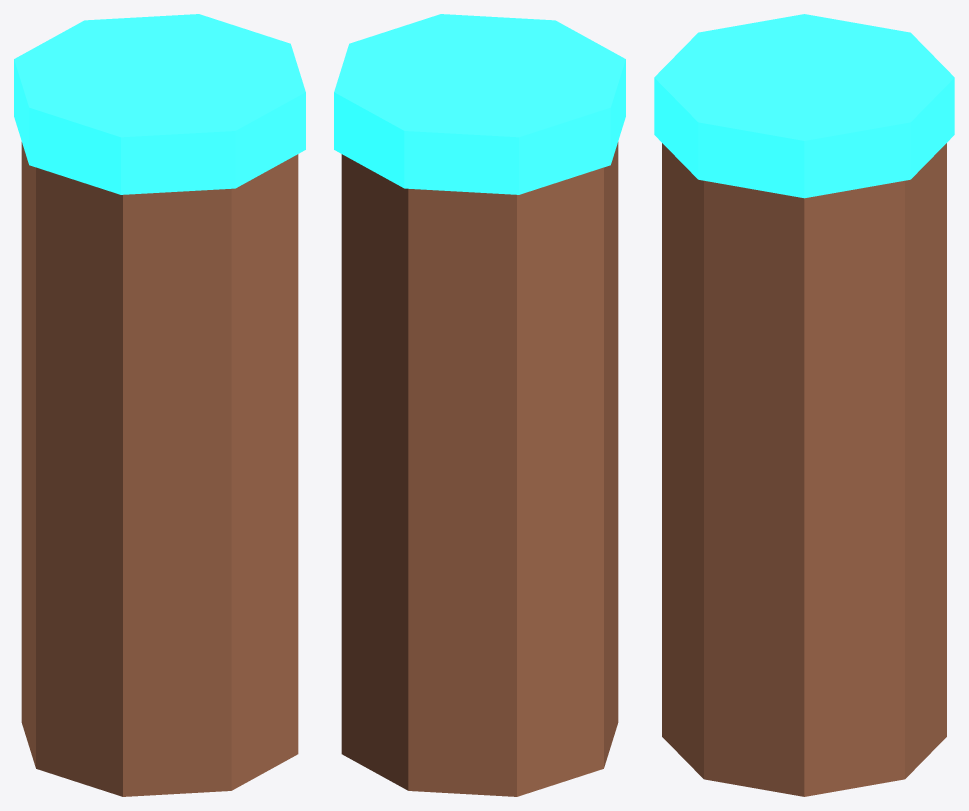
Rendered from street_006_seed11.glb.
3 renders of one model, left to right at view 1: azimuth 30°, elevation 25°; view 2: azimuth 150°, elevation 25°; view 3: azimuth 270°, elevation 25°, orthographic.
Visible parts, largest first — view 1: street_006_seed11; view 2: street_006_seed11; view 3: street_006_seed11.
Part boxes in pixels (x1,y1,x2,y2): street_006_seed11: (14, 14, 305, 796); street_006_seed11: (334, 14, 625, 796); street_006_seed11: (654, 14, 954, 796).
Bounding box in the file's own units: 0.38 × 0.92 × 0.38.
